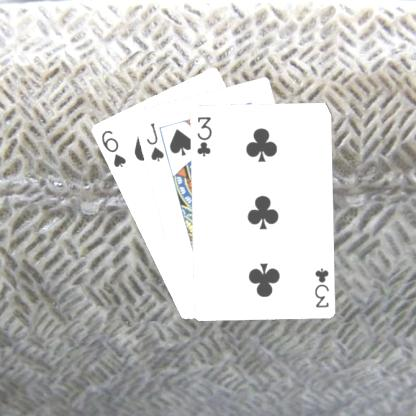3C: (193, 113, 213, 158), (311, 264, 330, 309)
6S: (98, 127, 127, 169)
JS: (143, 120, 165, 163)
